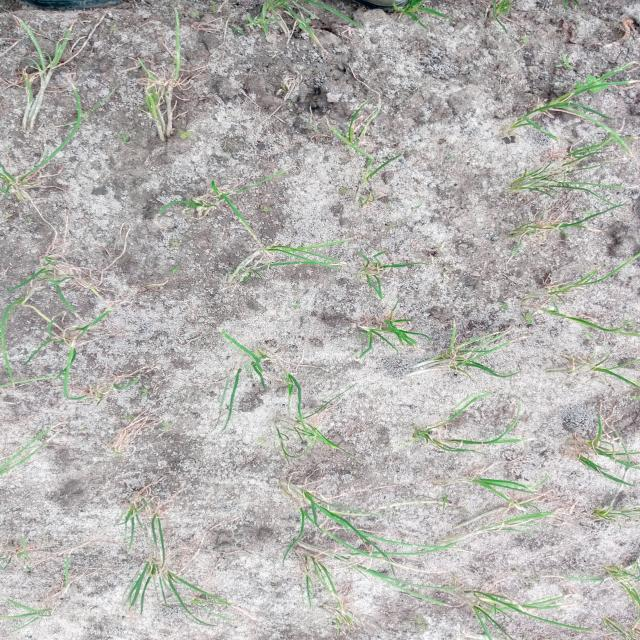Spring Onion: (336, 304, 424, 355), (507, 78, 584, 136), (0, 248, 85, 300), (272, 402, 342, 451), (571, 555, 640, 604), (0, 149, 55, 206), (274, 481, 342, 526), (33, 321, 101, 365), (361, 525, 414, 579), (566, 431, 626, 478), (504, 157, 567, 200), (402, 414, 462, 455), (119, 492, 172, 537), (181, 180, 243, 216), (235, 235, 285, 279), (127, 557, 181, 596), (398, 352, 460, 384), (506, 288, 558, 326), (386, 0, 448, 31), (471, 468, 531, 500), (141, 100, 193, 136), (230, 340, 273, 380), (584, 496, 635, 528), (292, 539, 329, 578), (498, 214, 546, 244), (11, 596, 58, 626), (462, 586, 489, 622), (0, 450, 19, 483), (350, 177, 368, 207)
